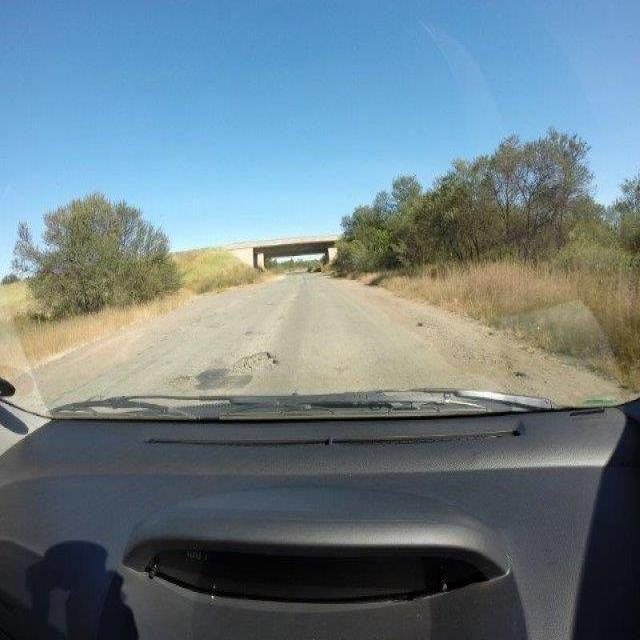lubang: (226, 344, 280, 376), (166, 374, 212, 393)
